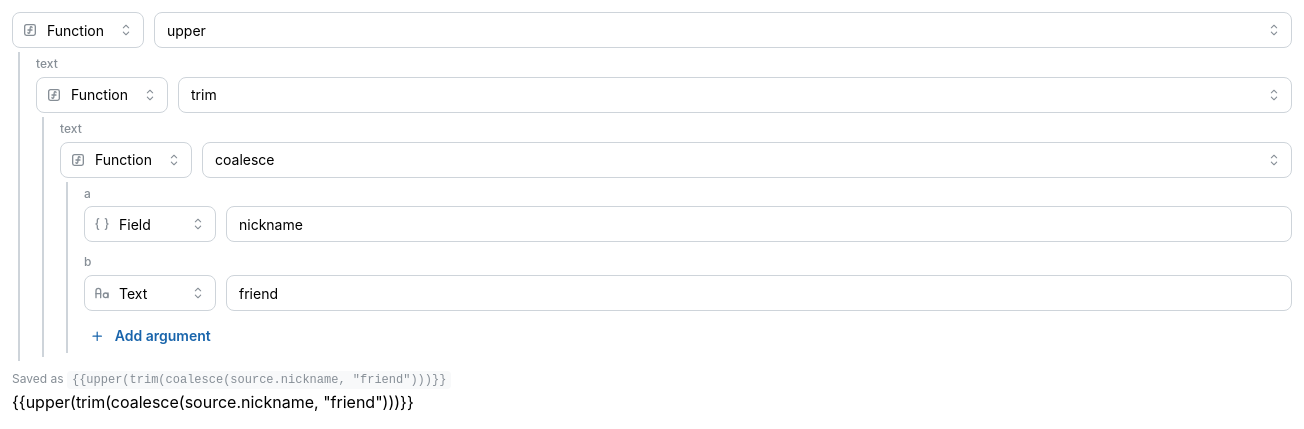
Test: ValueBuilder › reads and edits a function three levels deep
Replace the text in the field named "Value › text › text › b text" with "there" at (759, 293), box [226,275,1292,311]
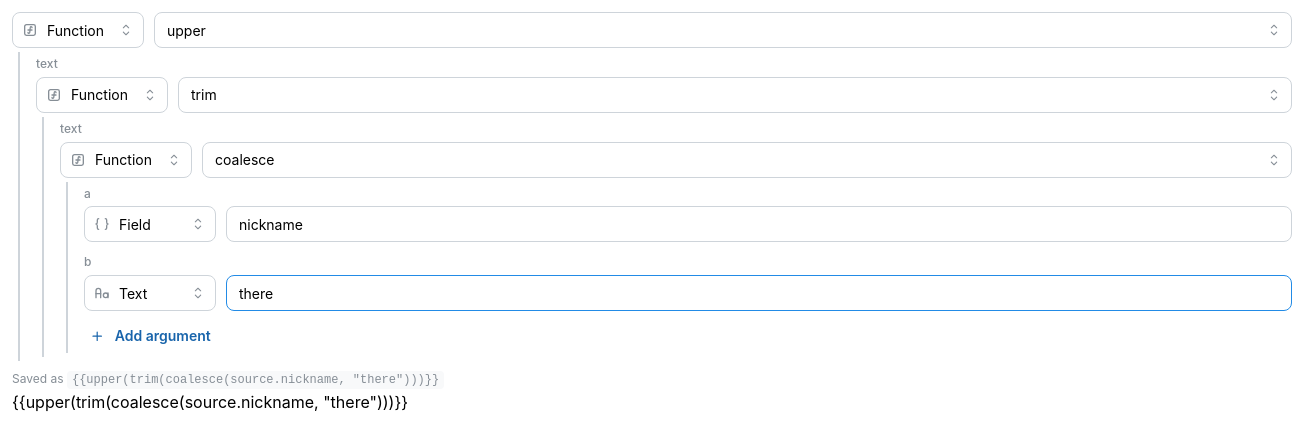
Check: the text "{{upper(trim(coalesce(source.nickname, \"there\")))}}" next to "Saved as" reads "{{upper(trim(coalesce(source.nickname, \"there\")))}}", box [72,373,439,387]
